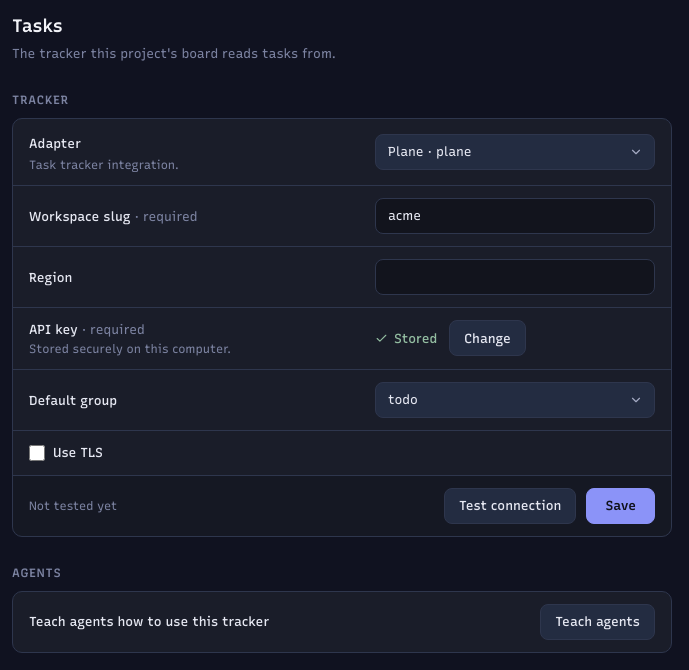
Test: KanbanSettings › renders a typed adapter failure inline, not as a toast
The image size is (689, 670).
Click the button with test id "settings-kanban-test" at (510, 506), box x1=444 y1=488 x2=576 y2=524
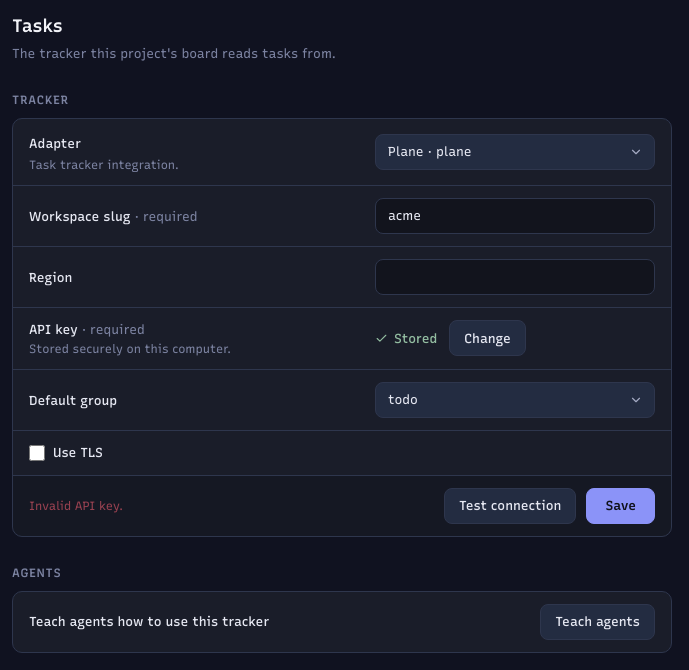
expect the message with test id "settings-kanban-test-result" reads "Invalid API key.": met, box x1=29 y1=498 x2=123 y2=512
expect the message reads "Invalid API key.": met, box x1=29 y1=498 x2=123 y2=512
